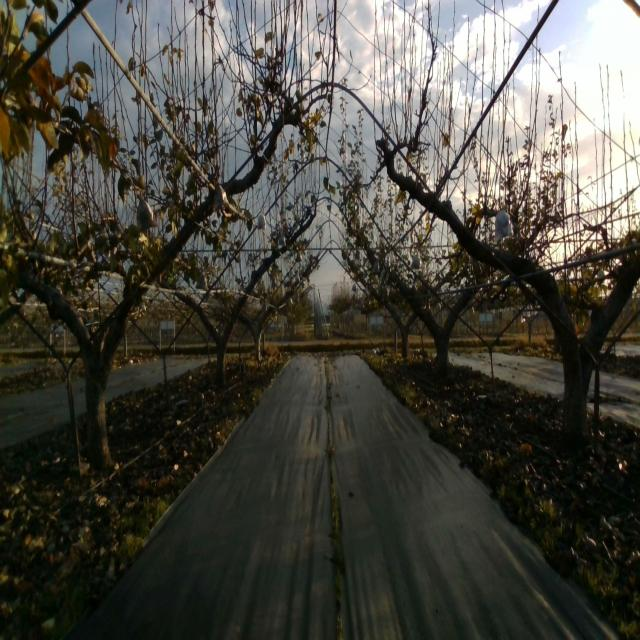pearbags: (494, 202, 514, 244), (136, 194, 158, 231), (213, 184, 229, 211)
